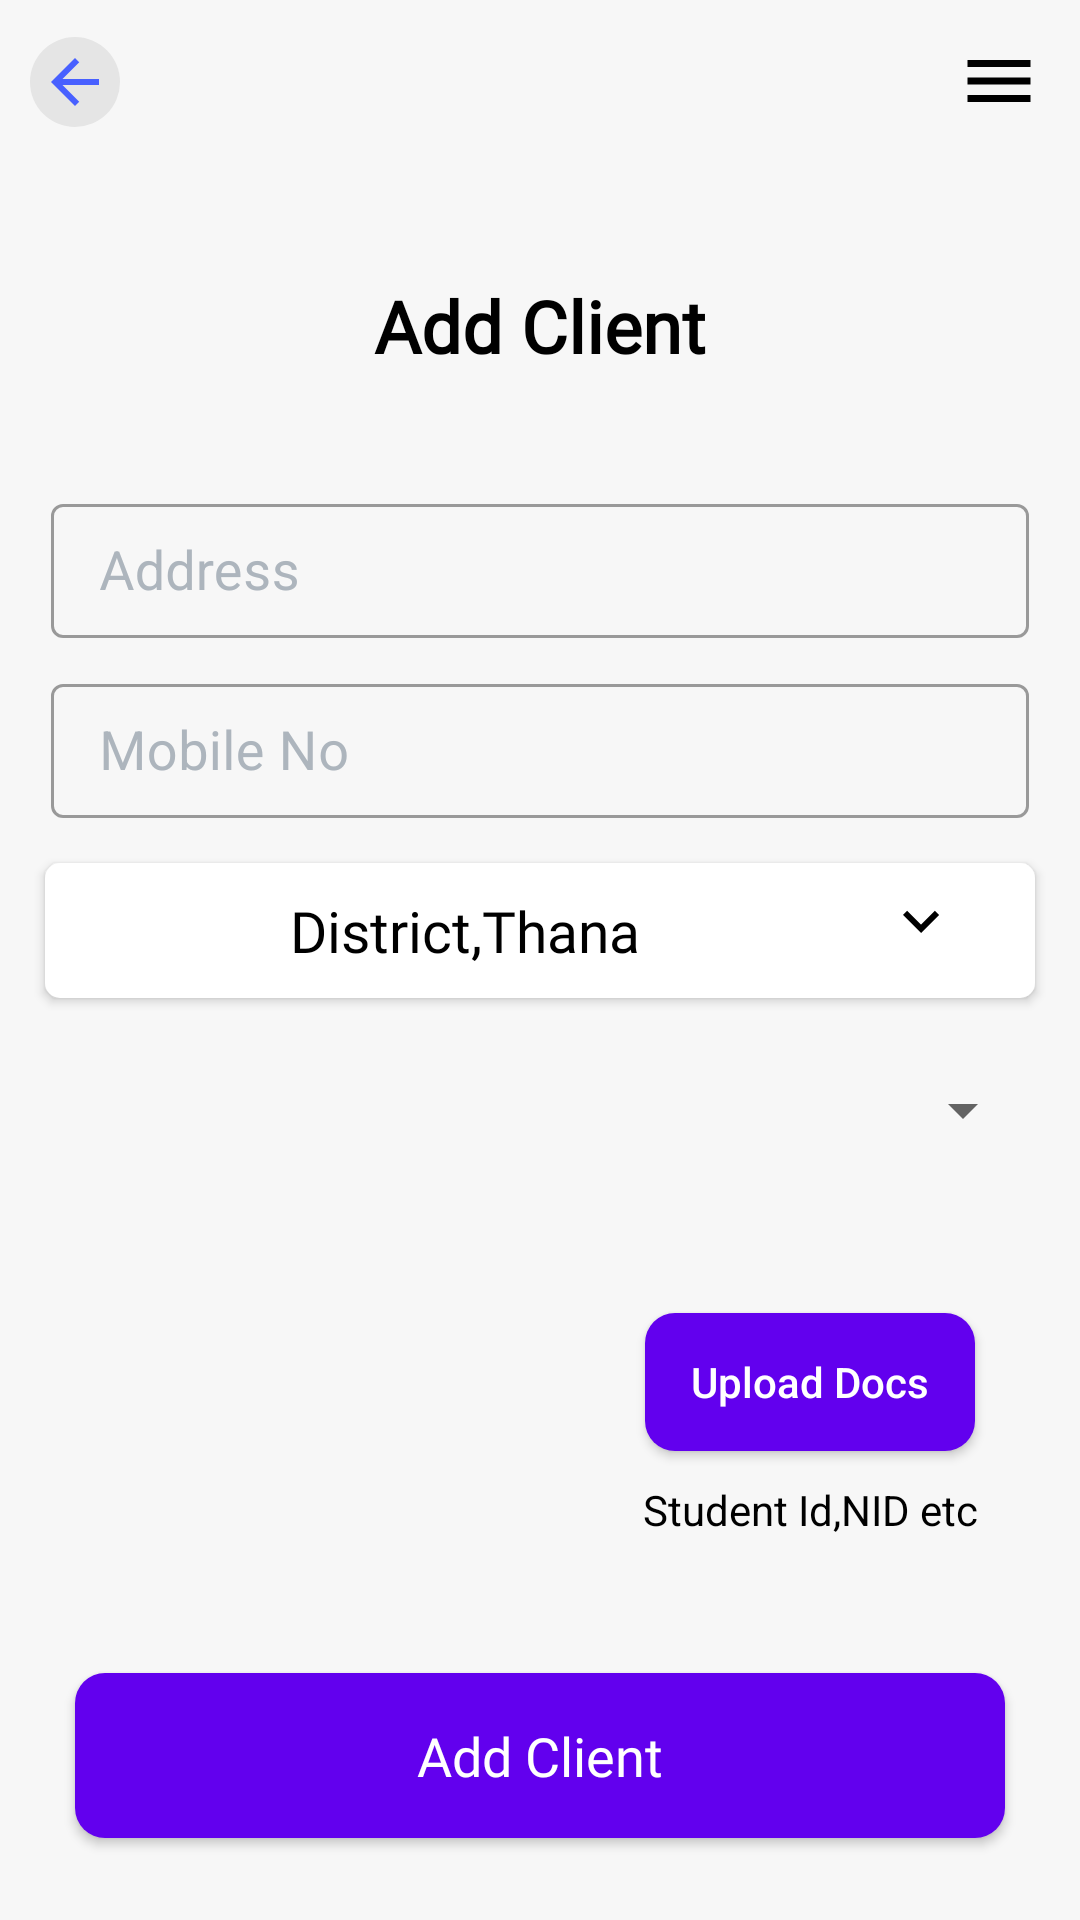

Point at icon controls on the screen. Image size 1080x1920, points as point (x, y).
back: point (75, 82)
menu: point (999, 81)
